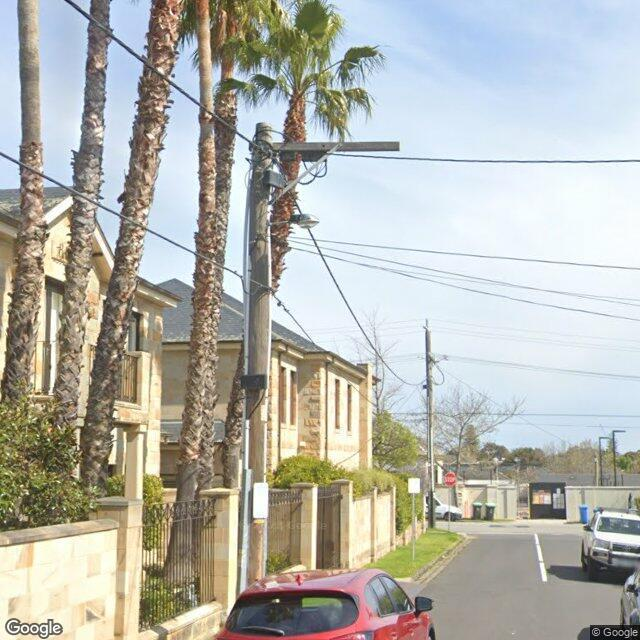crossarm: (248, 141, 399, 151)
streetlight: (266, 214, 320, 229)
timber-pole: (245, 122, 272, 588), (426, 318, 435, 528)
